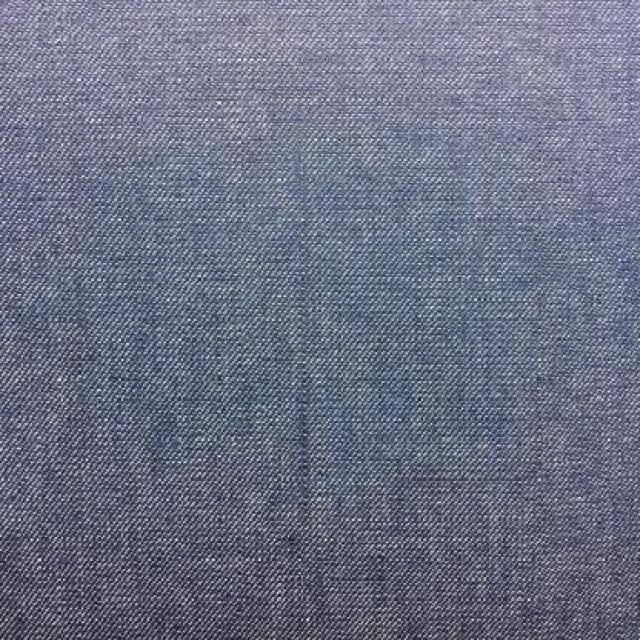pulled_or_thick_thread: (282, 331, 325, 537)
